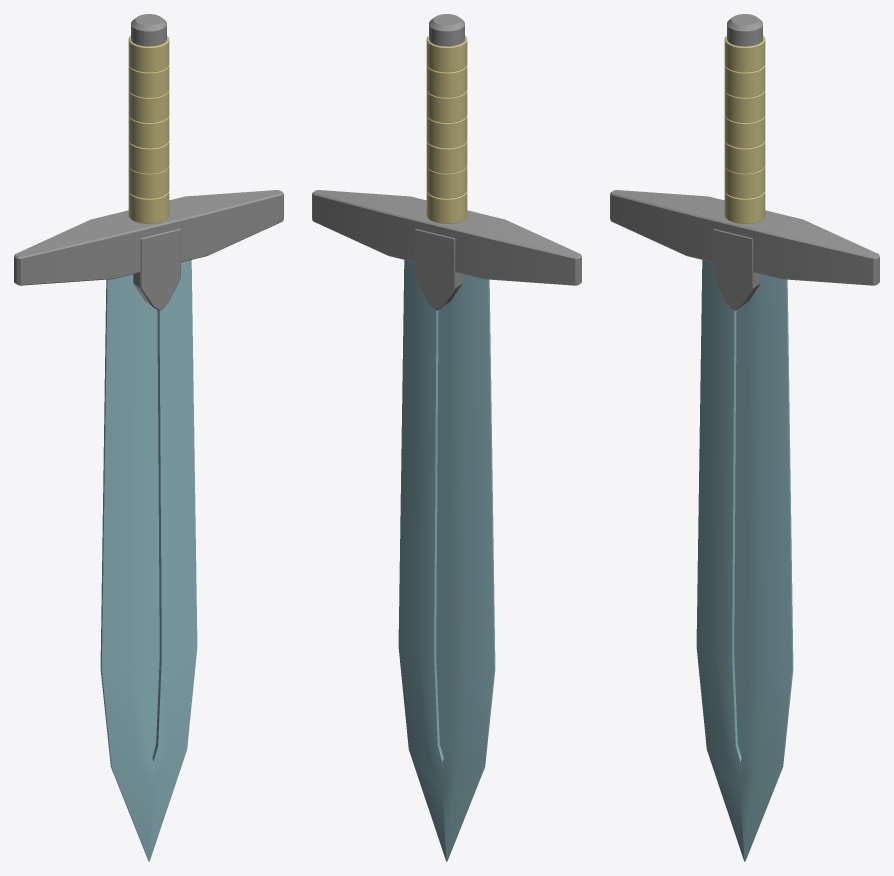
The model's file is GreatSword.fbx.
The picture shows the model from 3 angles, left to right: view 1: azimuth 30°, elevation 25°; view 2: azimuth 150°, elevation 25°; view 3: azimuth 330°, elevation 25°; orthographic projection.
Parts seen in each view (by area): view 1: pCube39, pCube40, pCube41, pCylinder39, pCylinder46, pCylinder44, pCylinder41, pCylinder43, pCylinder42, pCylinder45, pCylinder40; view 2: pCube39, pCube40, pCube41, pCylinder39, pCylinder46, pCylinder44, pCylinder41, pCylinder43, pCylinder42, pCylinder45, pCylinder40; view 3: pCube39, pCube40, pCube41, pCylinder39, pCylinder46, pCylinder44, pCylinder41, pCylinder43, pCylinder42, pCylinder45, pCylinder40.
Part boxes in pixels (x1=…): pCube39: x1=100, y1=260, x2=197, y2=861; pCube40: x1=14, y1=190, x2=283, y2=285; pCube41: x1=133, y1=228, x2=180, y2=310; pCylinder39: x1=128, y1=35, x2=169, y2=72; pCylinder46: x1=128, y1=191, x2=169, y2=223; pCylinder44: x1=128, y1=141, x2=169, y2=173; pCylinder41: x1=128, y1=65, x2=169, y2=97; pCylinder43: x1=128, y1=115, x2=169, y2=148; pCylinder42: x1=128, y1=90, x2=169, y2=122; pCylinder45: x1=128, y1=166, x2=169, y2=198; pCylinder40: x1=131, y1=14, x2=166, y2=46; pCube39: x1=398, y1=260, x2=495, y2=861; pCube40: x1=312, y1=190, x2=581, y2=285; pCube41: x1=415, y1=228, x2=462, y2=310; pCylinder39: x1=426, y1=35, x2=467, y2=72; pCylinder46: x1=426, y1=191, x2=467, y2=223; pCylinder44: x1=426, y1=141, x2=467, y2=173; pCylinder41: x1=426, y1=65, x2=467, y2=97; pCylinder43: x1=426, y1=115, x2=467, y2=148; pCylinder42: x1=426, y1=90, x2=467, y2=122; pCylinder45: x1=426, y1=166, x2=467, y2=198; pCylinder40: x1=429, y1=14, x2=464, y2=46; pCube39: x1=696, y1=260, x2=793, y2=861; pCube40: x1=610, y1=190, x2=879, y2=285; pCube41: x1=713, y1=229, x2=760, y2=310; pCylinder39: x1=724, y1=35, x2=765, y2=72; pCylinder46: x1=724, y1=191, x2=765, y2=223; pCylinder44: x1=724, y1=141, x2=765, y2=173; pCylinder41: x1=724, y1=65, x2=765, y2=97; pCylinder43: x1=724, y1=115, x2=765, y2=148; pCylinder42: x1=724, y1=90, x2=765, y2=122; pCylinder45: x1=724, y1=166, x2=765, y2=198; pCylinder40: x1=727, y1=14, x2=762, y2=46.
Size of the model in its own units: 48.17 by 145 by 7.58.
